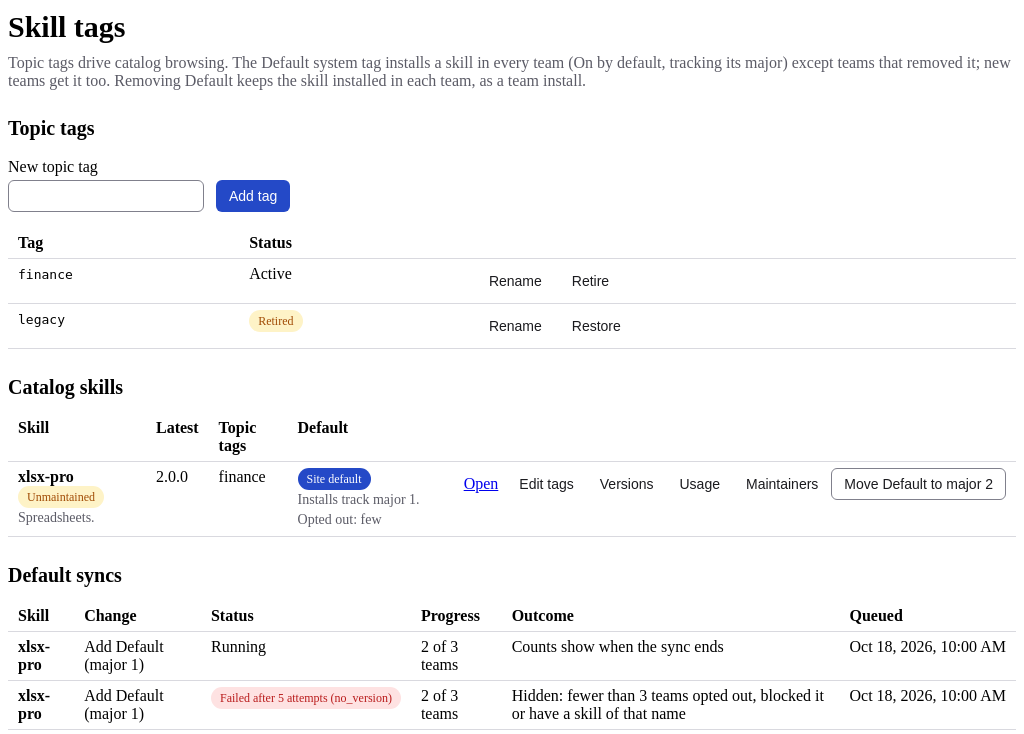
Catalog maintainers (KOBE-332) › marks an Unmaintained skill and lets a Site admin add and remove maintainers
This screenshot has width=1024, height=734.
Expected: the text "Unmaintained" is shown, [18,486,104,508]
Click the button with aria-label "Maintainers of xlsx-pro" at x=782, y=484, box [733,468,831,500]
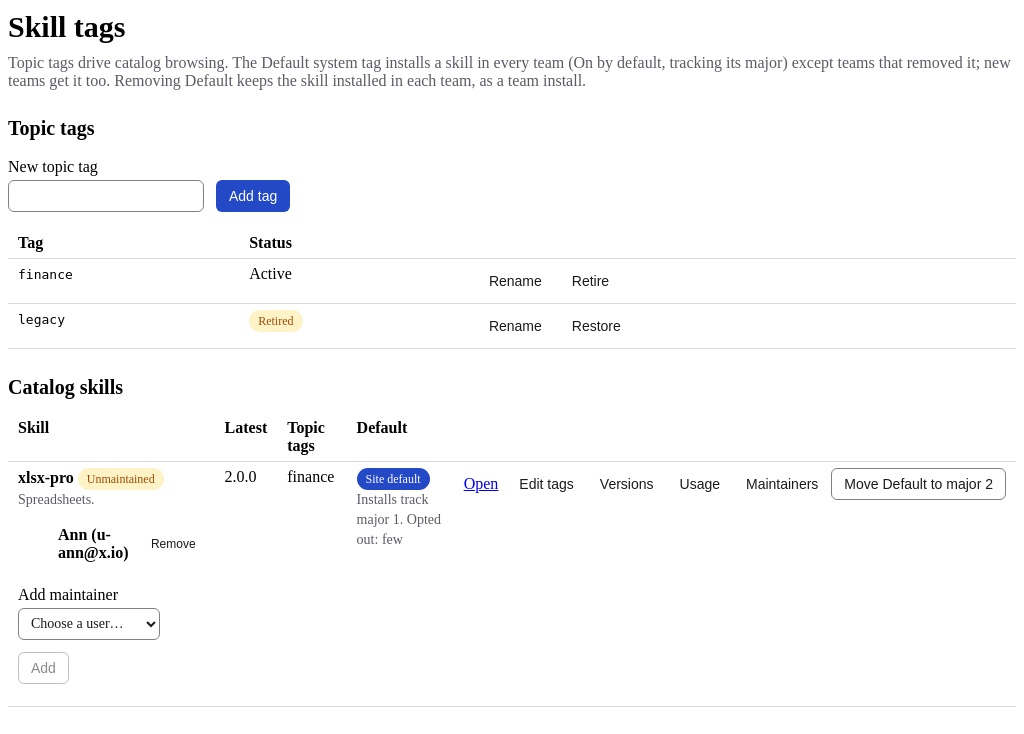
Result: the text "Ann (u-ann@x.io)" is shown at [58,526,134,562]
Select "Bob (u-bob@x.io)" in the dropdown labelled "Add maintainer" at x=89, y=624, box [18,608,160,640]
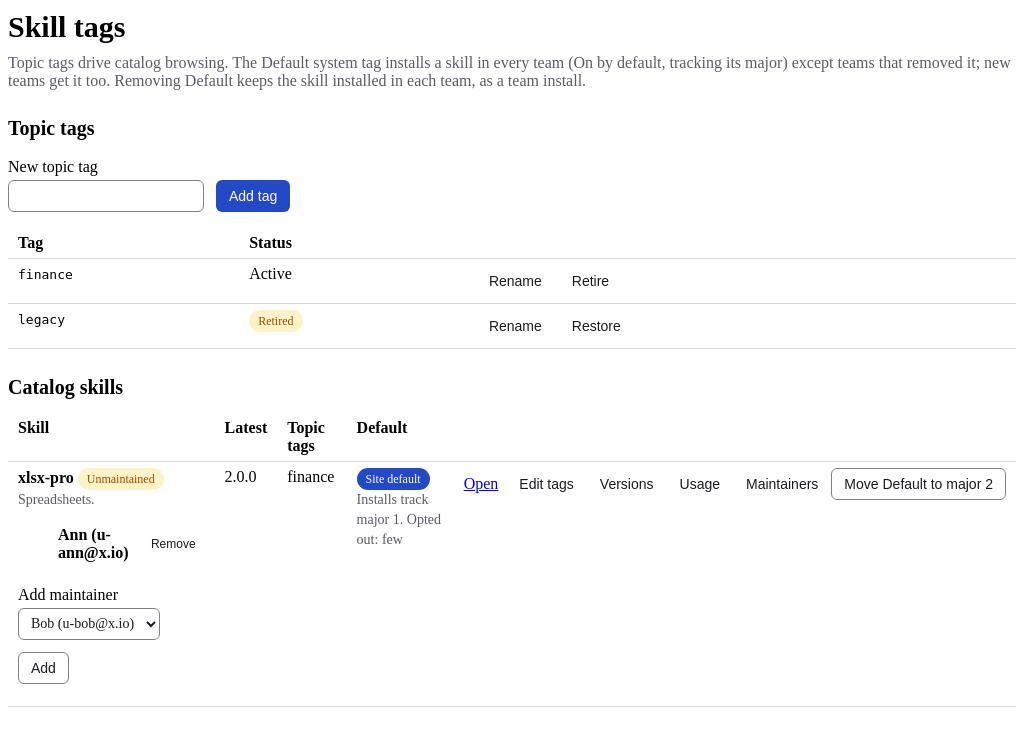
Click the button "Add" at x=43, y=668, box [18,652,69,684]
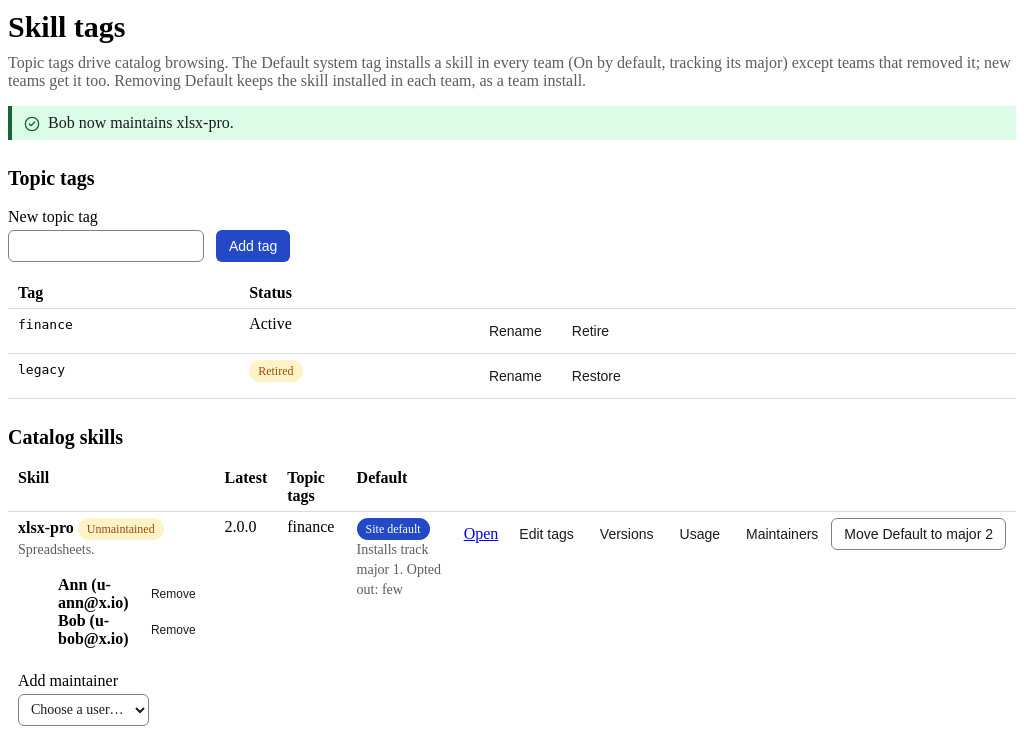
Result: the text "Bob now maintains xlsx-pro." is shown at [48,114,234,130]
Click the button named "Remove Ann" at x=173, y=594, box [142,580,205,608]
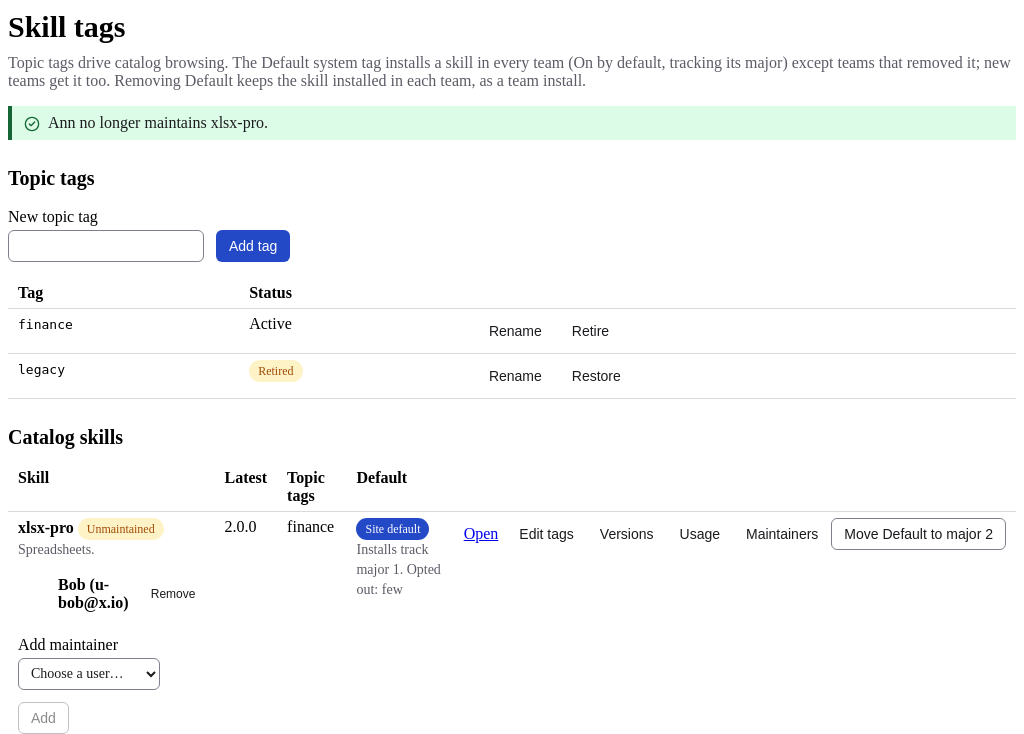
Result: the text "Ann no longer maintains xlsx-pro." is shown at [48,114,268,130]
